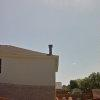Chimney: (44, 36, 58, 61)
